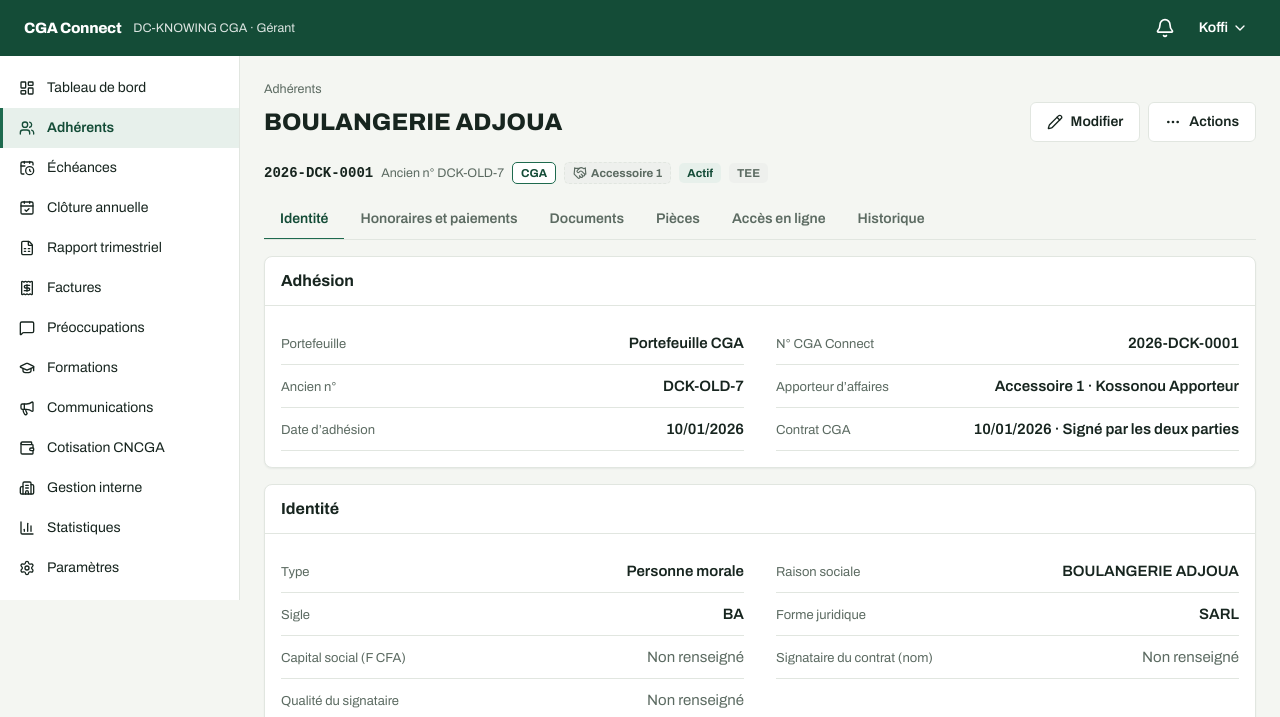
it: /cga/adherents/:id · Honoraires et paiements (F-PAY-01 à 03) › RG-PAY-02 · « Enregistrer un paiement » : échéance cochée, montant = reste dû, reçu numéroté
Expected: the heading "BOULANGERIE ADJOUA" is shown, [264, 106, 562, 138]
Click the tab "Honoraires et paiements" at point(439, 220), box [344, 200, 534, 240]
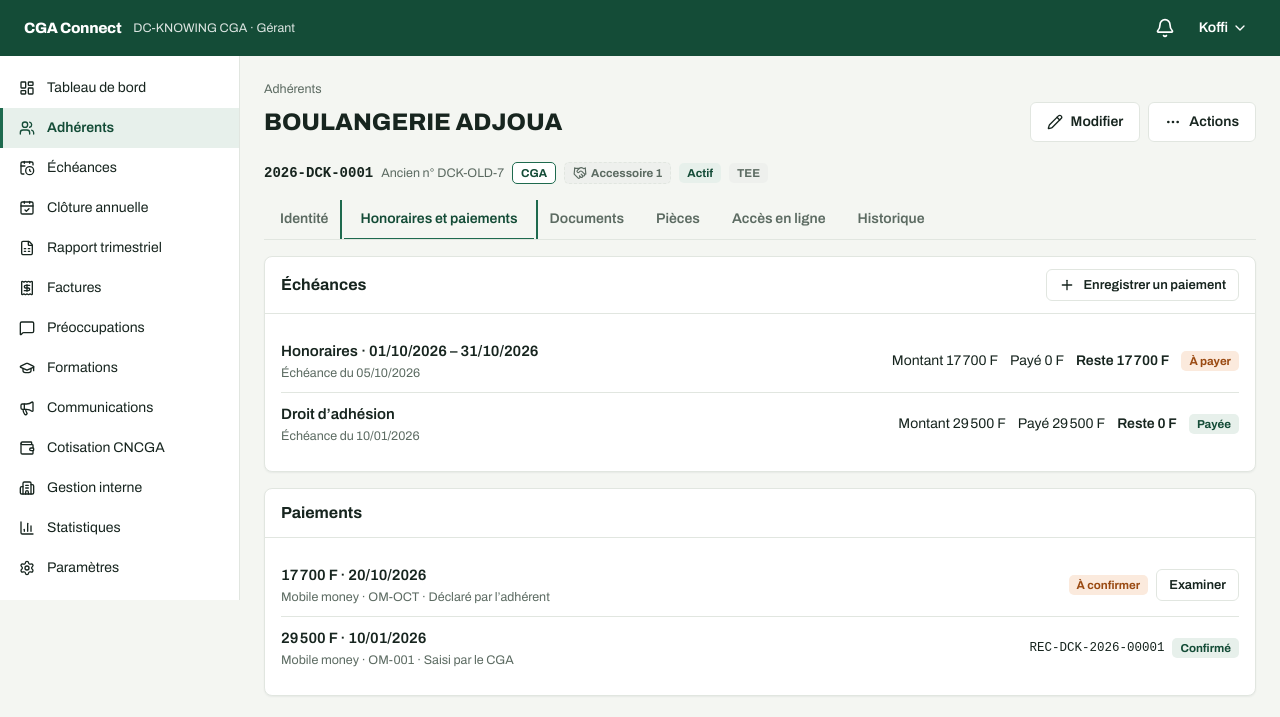
Click the button "Enregistrer un paiement" at point(1143, 285), box [1046, 269, 1239, 301]
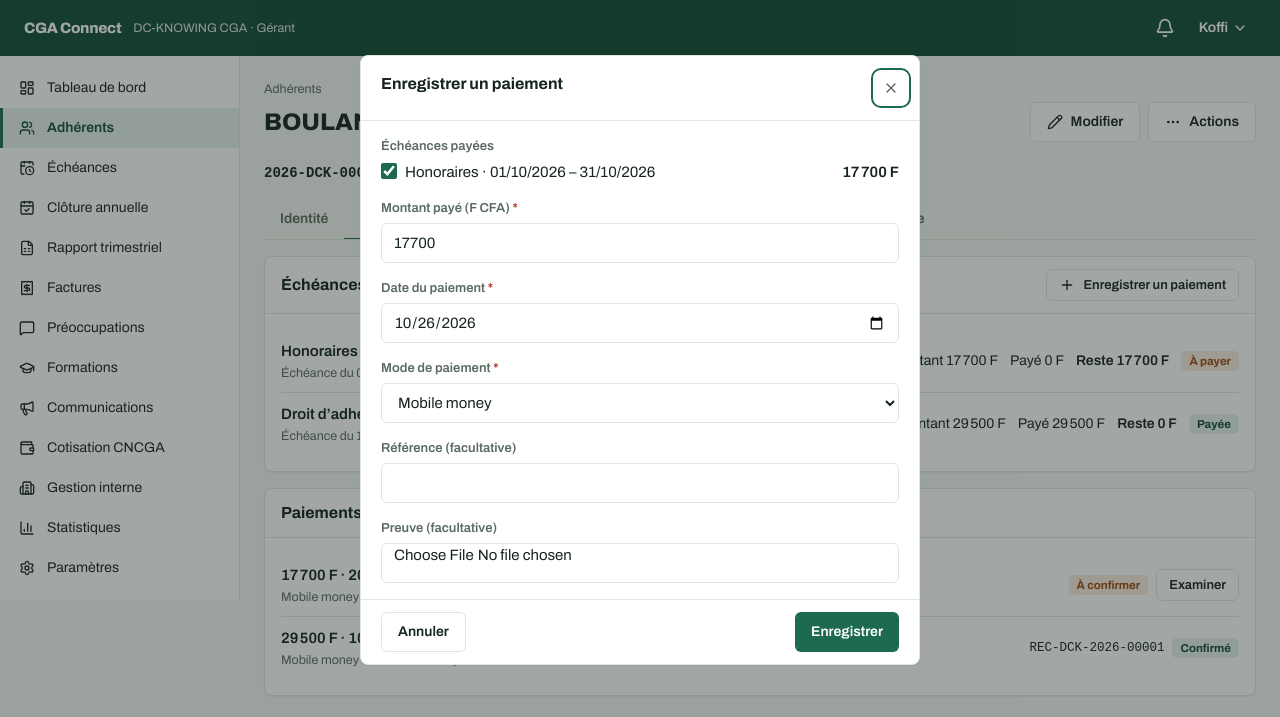
Expected: the checkbox labelled "Honoraires · 01/10/2026 – 31/10/2026 17 700 F" is checked
Click the checkbox labelled "Honoraires · 01/10/2026 – 31/10/2026 17 700 F" at point(389, 171), box [381, 163, 397, 179]
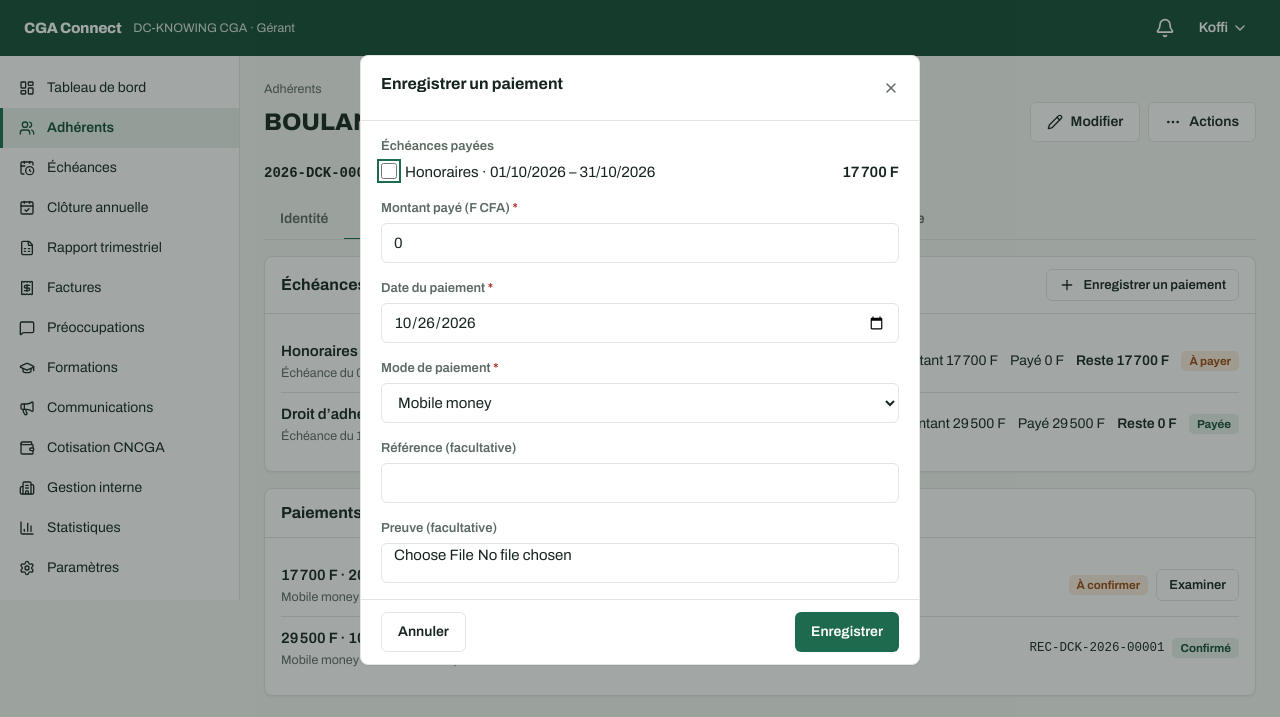
Click the button "Enregistrer" at point(847, 632), box [795, 612, 899, 652]
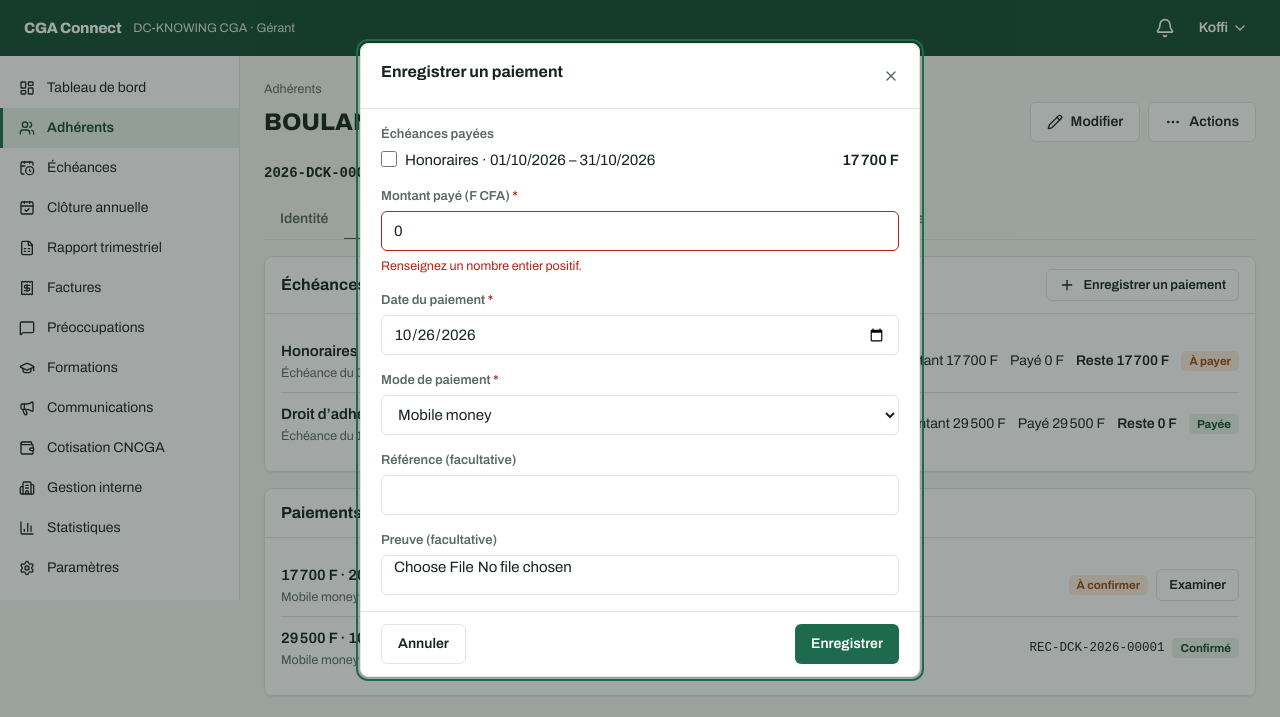
Expected: the text "Renseignez un nombre entier positif." is shown, [381, 259, 582, 273]
Click the checkbox labelled "Honoraires · 01/10/2026 – 31/10/2026 17 700 F" at point(389, 159), box [381, 151, 397, 167]
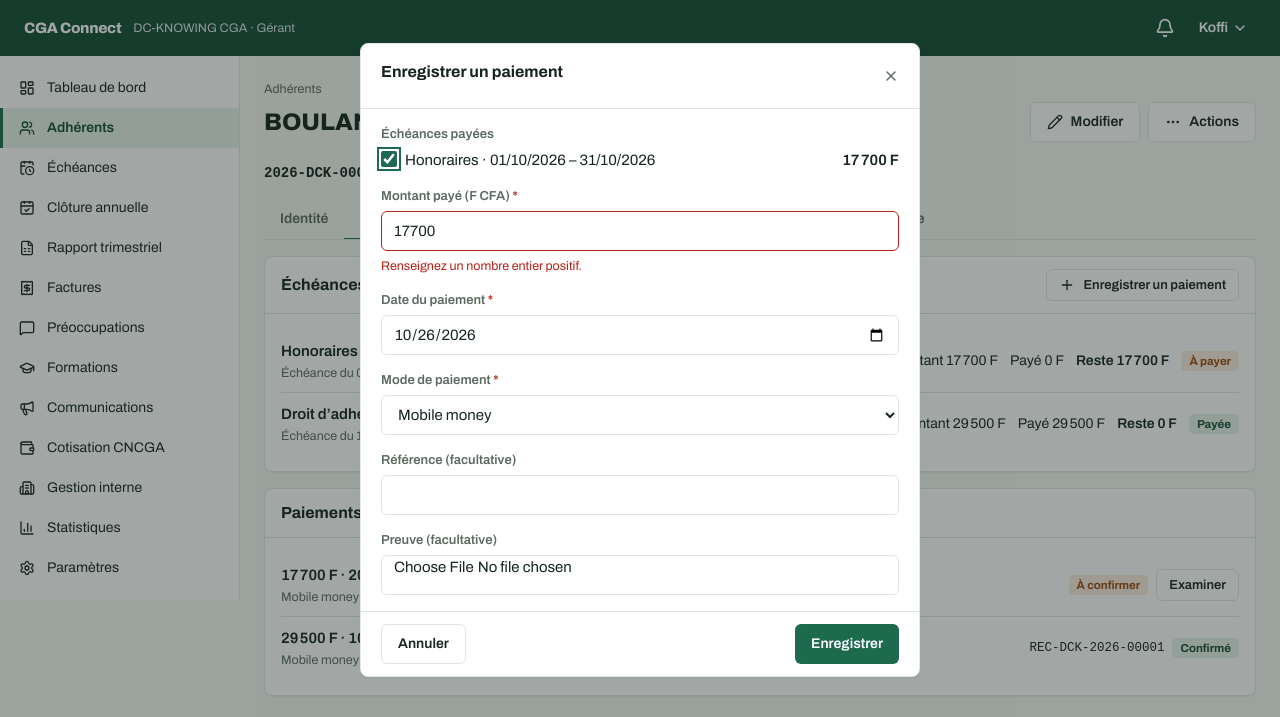
Type "OM-NOV" into the field labelled "Référence (facultative)" at point(640, 495), box [381, 475, 899, 515]
Click the button "Enregistrer" at point(847, 644), box [795, 624, 899, 664]
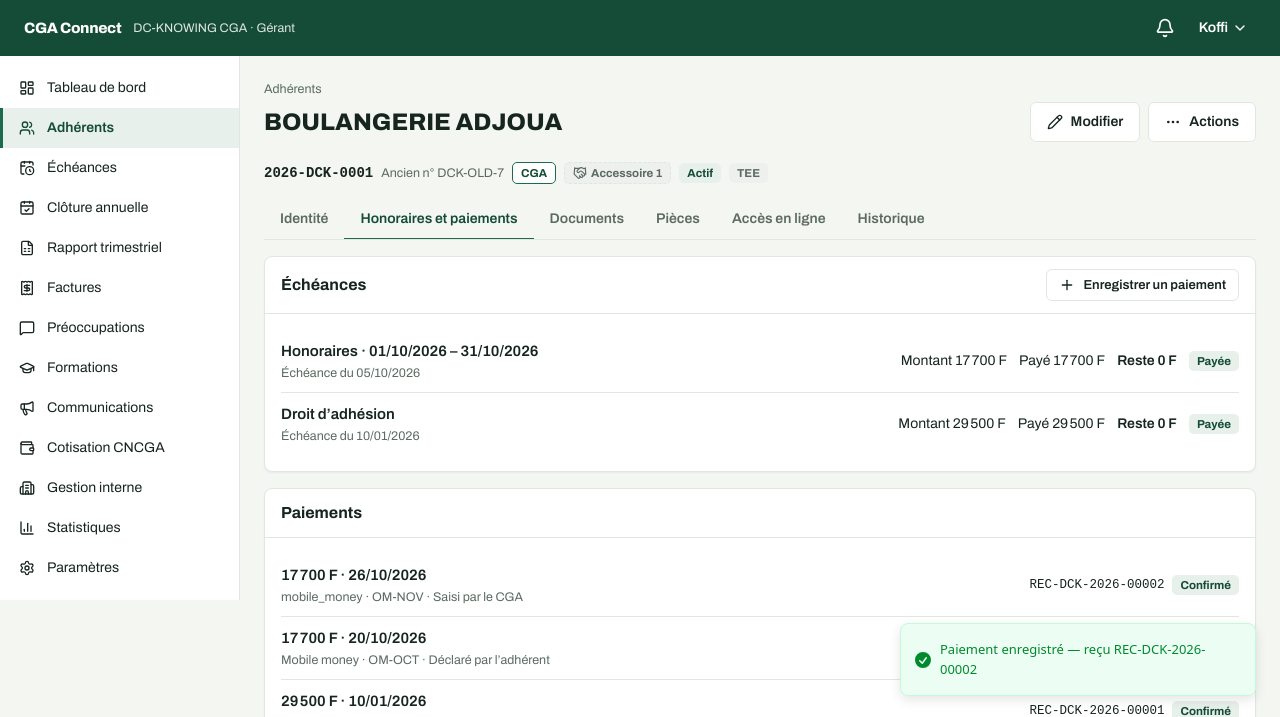
Expected: the text "Payée" is shown 2 times, [1189, 351, 1239, 371]; [1189, 414, 1239, 434]
